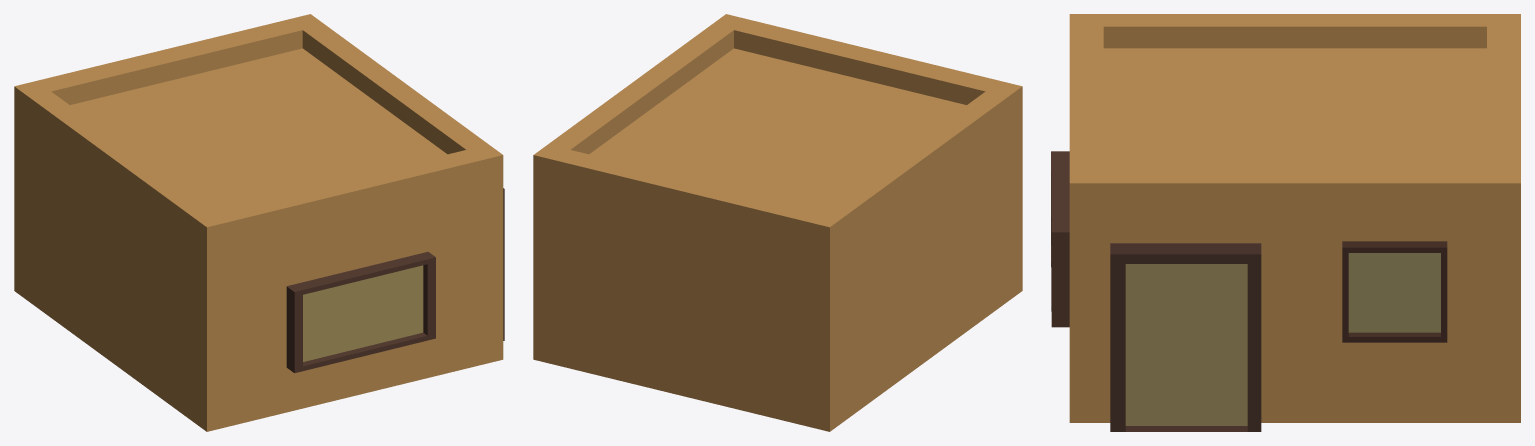
The model's file is SmallHouse.fbx.
3 views of the same model, side by side, from view 1: azimuth 30°, elevation 25°; view 2: azimuth 150°, elevation 25°; view 3: azimuth 270°, elevation 25° (orthographic). The views are drawn at different scales.
Parts seen in each view (by area): view 1: House.004, Window Long; view 2: House.004; view 3: House.004, Door.005, Window Square.009, Window Long.
Part boxes in pixels (x1=…): House.004: x1=14, y1=14, x2=503, y2=431; Window Long: x1=286, y1=252, x2=435, y2=373; House.004: x1=533, y1=14, x2=1022, y2=431; House.004: x1=1069, y1=14, x2=1520, y2=422; Door.005: x1=1110, y1=243, x2=1261, y2=431; Window Square.009: x1=1342, y1=241, x2=1447, y2=342; Window Long: x1=1051, y1=151, x2=1069, y2=327.
Bounding box in the file's own units: 992 × 615 × 1094.
